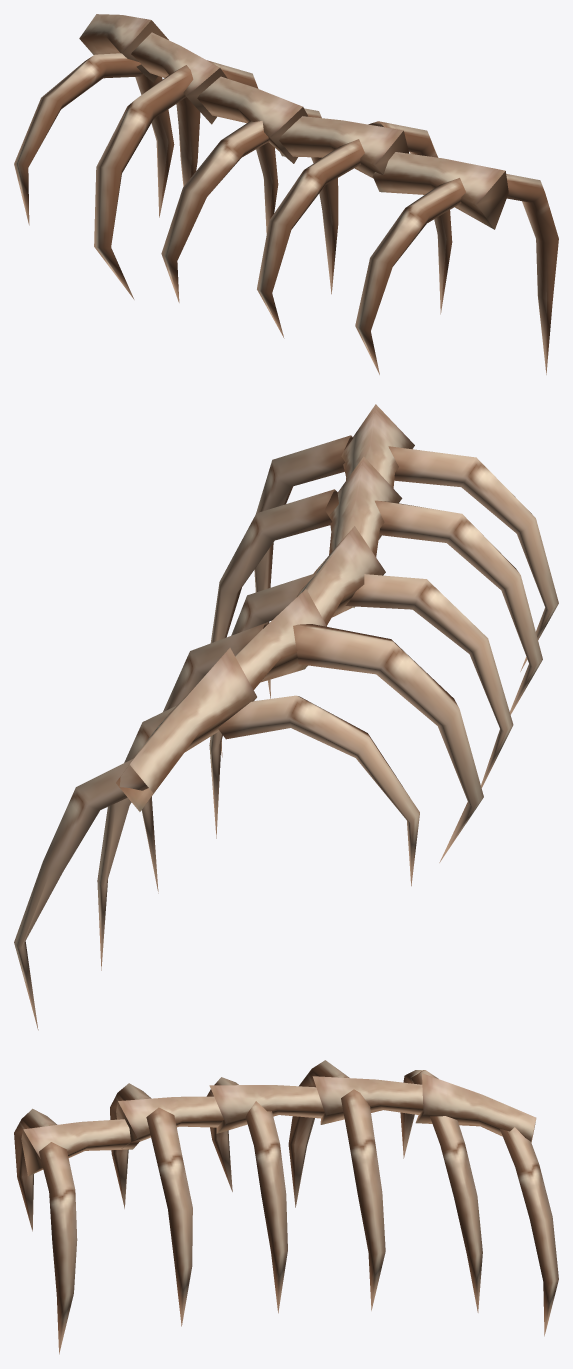
The model's file is gutou05.FBX.
3 renders of one model, top to bottom at view 1: azimuth 30°, elevation 25°; view 2: azimuth 150°, elevation 25°; view 3: azimuth 270°, elevation 25°, orthographic. The views are drawn at different scales.
Visible parts, largest first — view 1: gutou05; view 2: gutou05; view 3: gutou05.
Boxes of the visible parts, x1,y1,x2,y2 form: gutou05: (14,14,558,374); gutou05: (14,404,558,1030); gutou05: (14,1060,558,1354).
Size of the model in its own units: 77.79 by 60.94 by 129.
